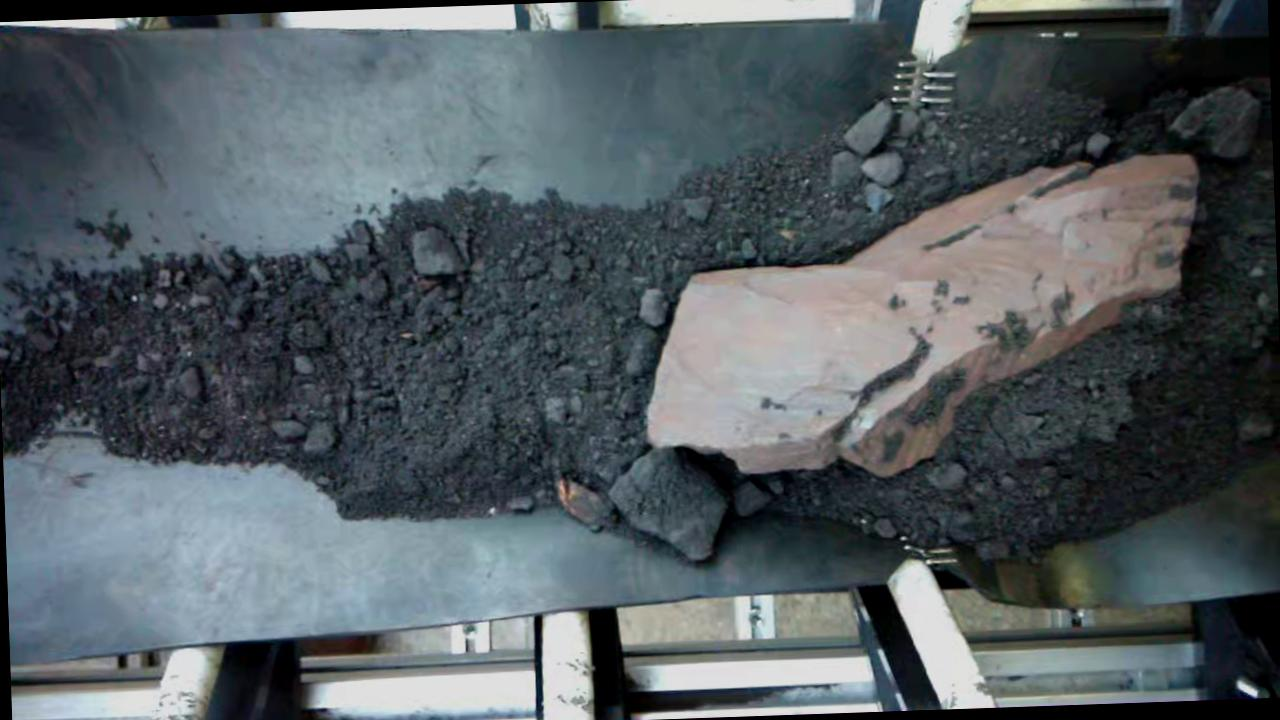conveyor: (0, 26, 1280, 623)
